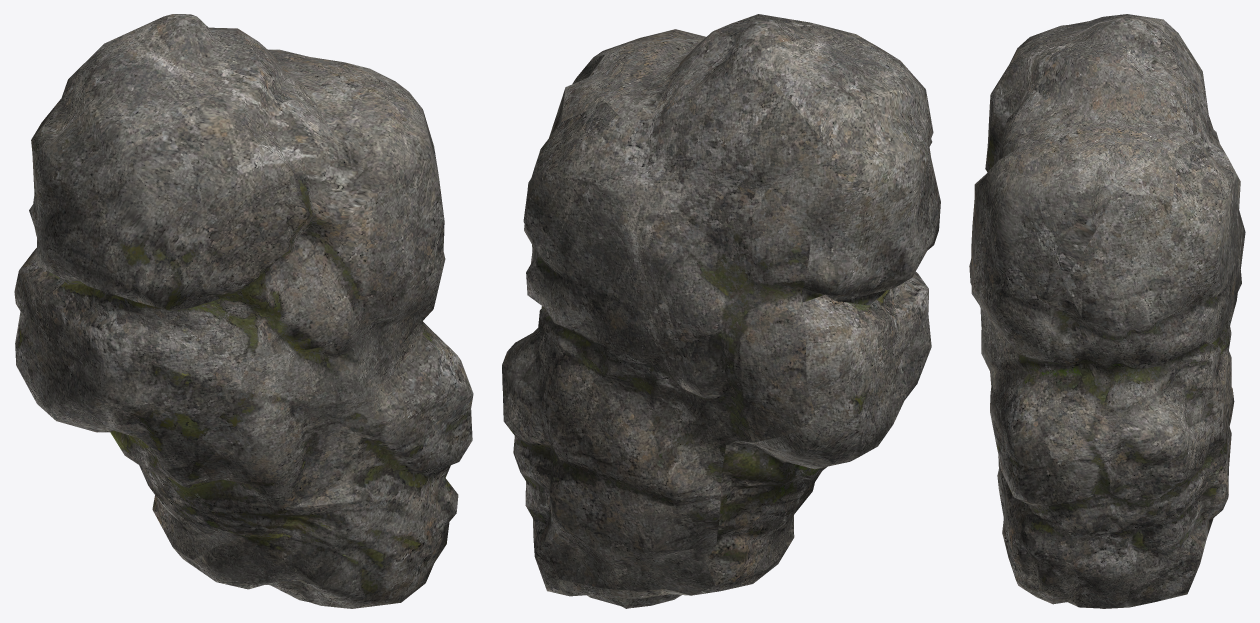
File: Rock03.FBX
3 views of the same model, side by side, from view 1: azimuth 30°, elevation 25°; view 2: azimuth 150°, elevation 25°; view 3: azimuth 270°, elevation 25° (orthographic). The views are drawn at different scales.
Visible parts, largest first — view 1: LV_TurtleLake_Rock_GoblinRock04_SM_EYE; view 2: LV_TurtleLake_Rock_GoblinRock04_SM_EYE; view 3: LV_TurtleLake_Rock_GoblinRock04_SM_EYE.
Boxes of the visible parts, x1,y1,x2,y2 form: LV_TurtleLake_Rock_GoblinRock04_SM_EYE: (14, 14, 473, 608); LV_TurtleLake_Rock_GoblinRock04_SM_EYE: (502, 14, 940, 608); LV_TurtleLake_Rock_GoblinRock04_SM_EYE: (969, 14, 1245, 608).
Size of the model in its own units: 381 by 554 by 269.
